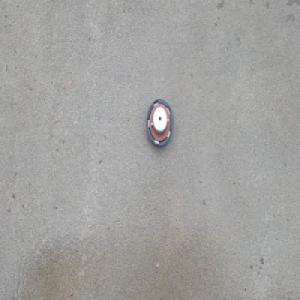FuelCap: (145, 97, 174, 148)
